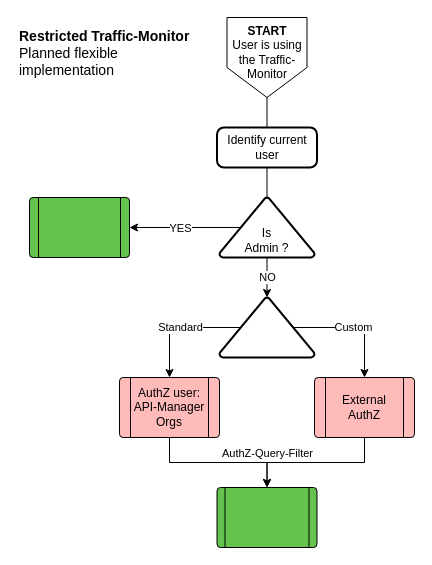
This 432x565 diagram has some shape labels left out. The centre of each missing label's shape, as x and y in pixels:
Query APIs having user organization: (266,517)
Query Elasticsearch without Restriction: (79,227)
Switch on Lookup-Config: (266,327)
